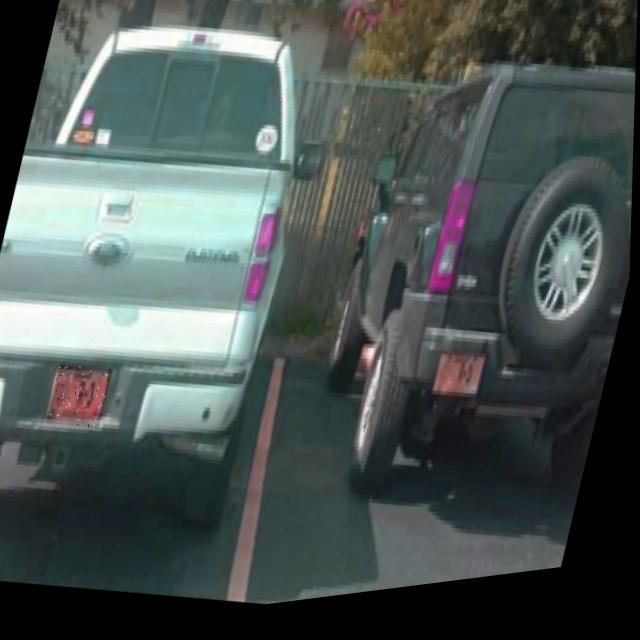license_plate: (48, 361, 115, 436)
